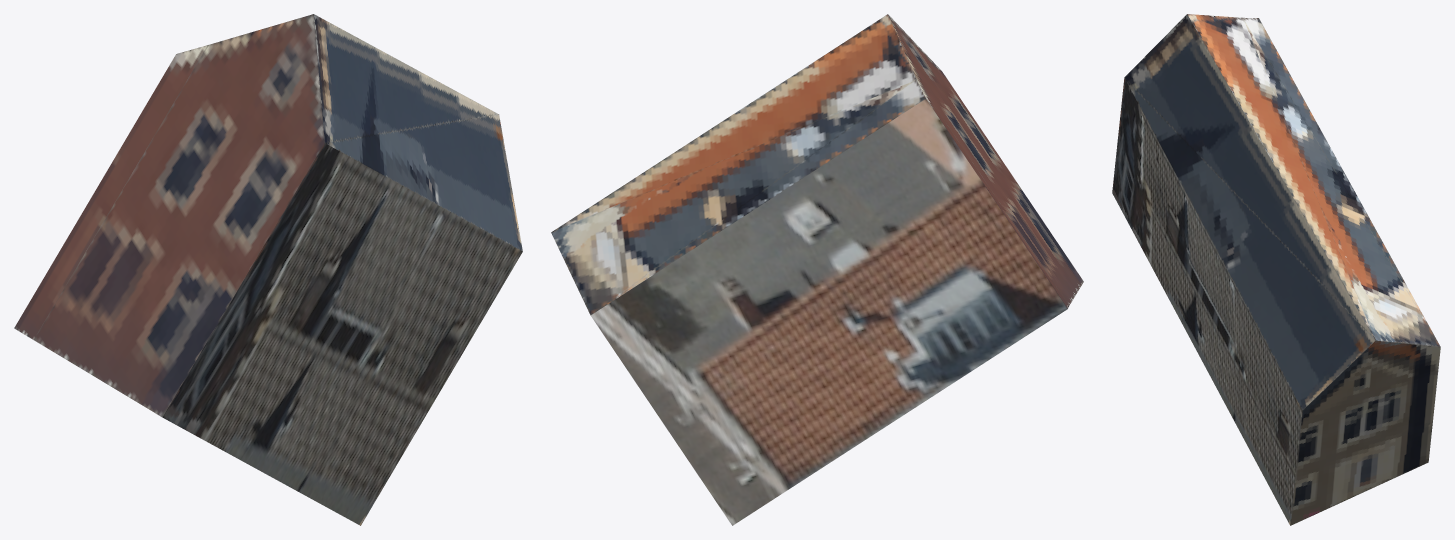
The picture shows the model from 3 angles, left to right: view 1: azimuth 30°, elevation 25°; view 2: azimuth 150°, elevation 25°; view 3: azimuth 270°, elevation 25°; orthographic projection. The views are drawn at different scales.
Visible parts, largest first — view 1: BAG_0599100000656923 (×3); view 2: BAG_0599100000656923 (×3); view 3: BAG_0599100000656923 (×3).
Part boxes in pixels (<box>): BAG_0599100000656923 (×3): <box>14,14,522,525</box>; BAG_0599100000656923 (×3): <box>551,14,1083,525</box>; BAG_0599100000656923 (×3): <box>1112,14,1440,525</box>.
Size of the model in its own units: 15.77 by 15.62 by 9.93.
Materials: 1 (1 with a texture image).
